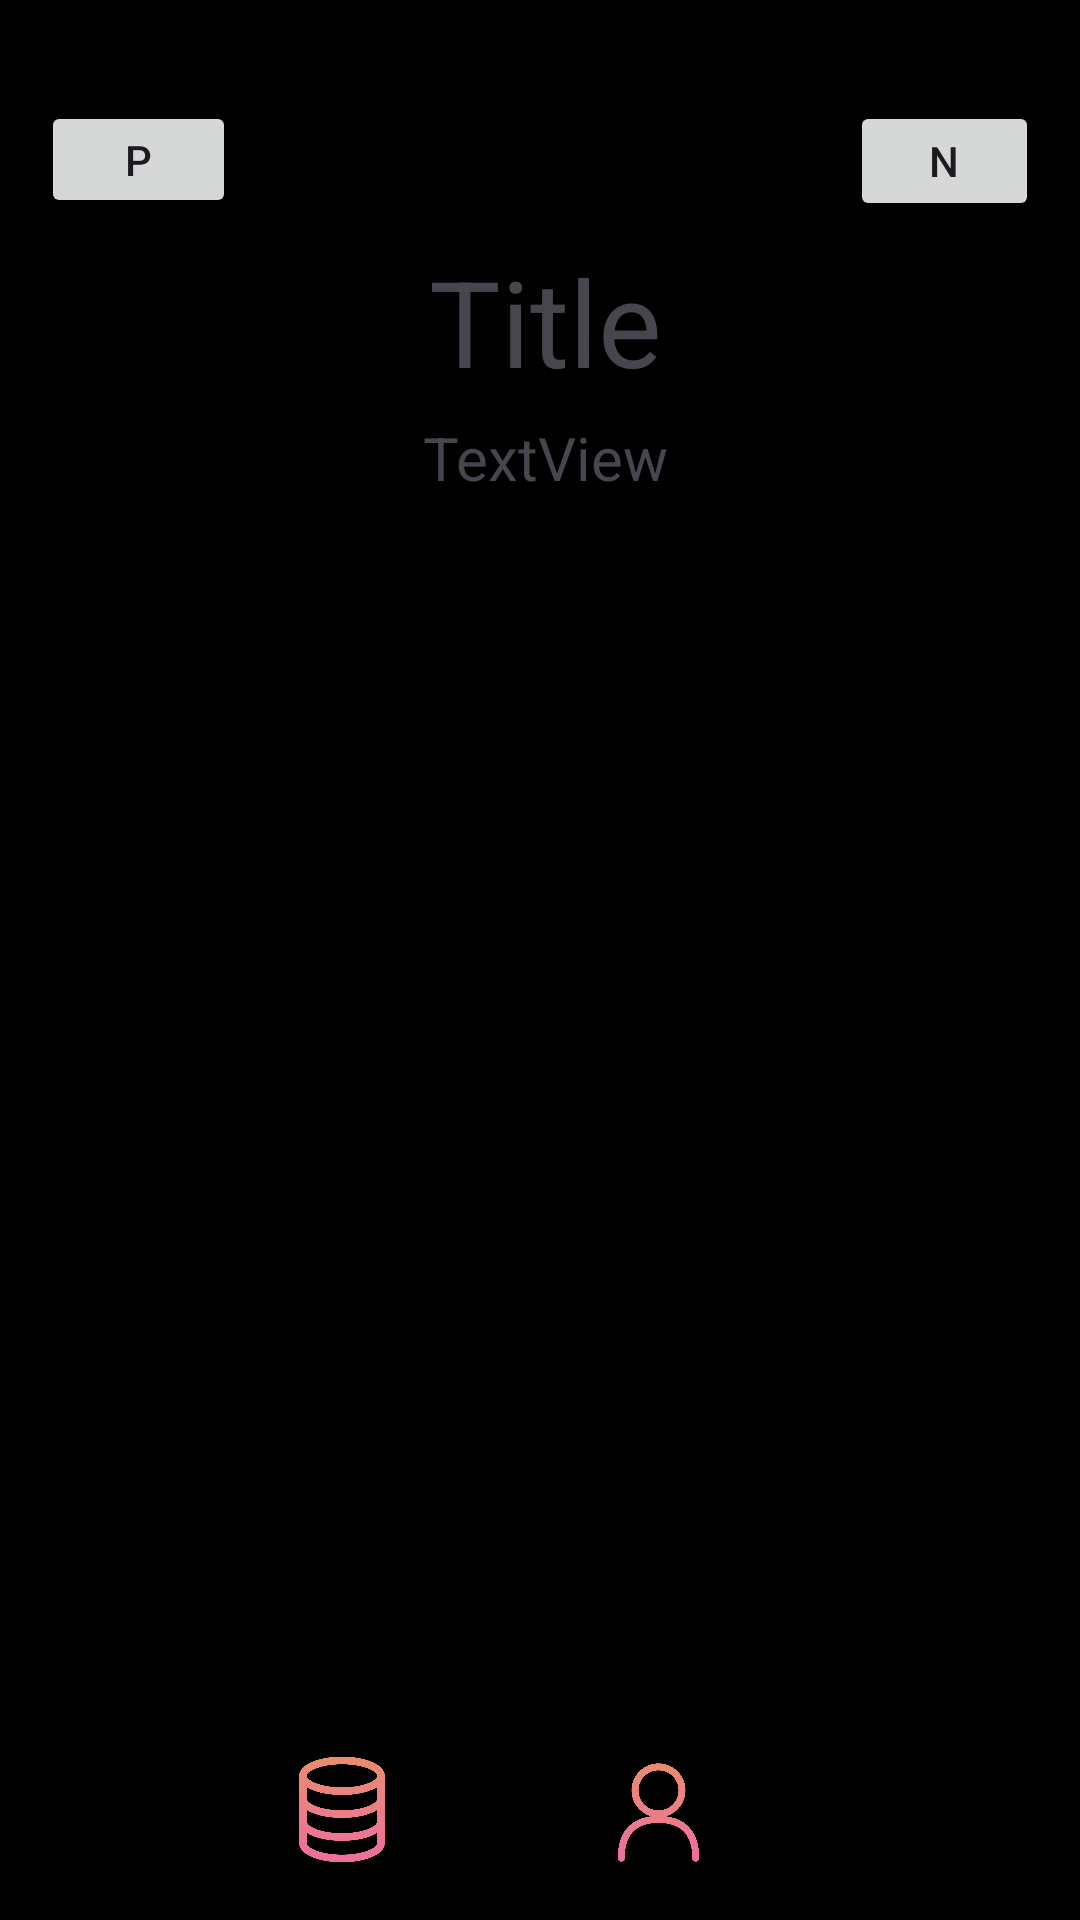

Where to tap for icons on this 1080px x 1920px app screen, as (x=x, y=y):
database fit data: (x=342, y=1809)
user fit data: (x=658, y=1812)
